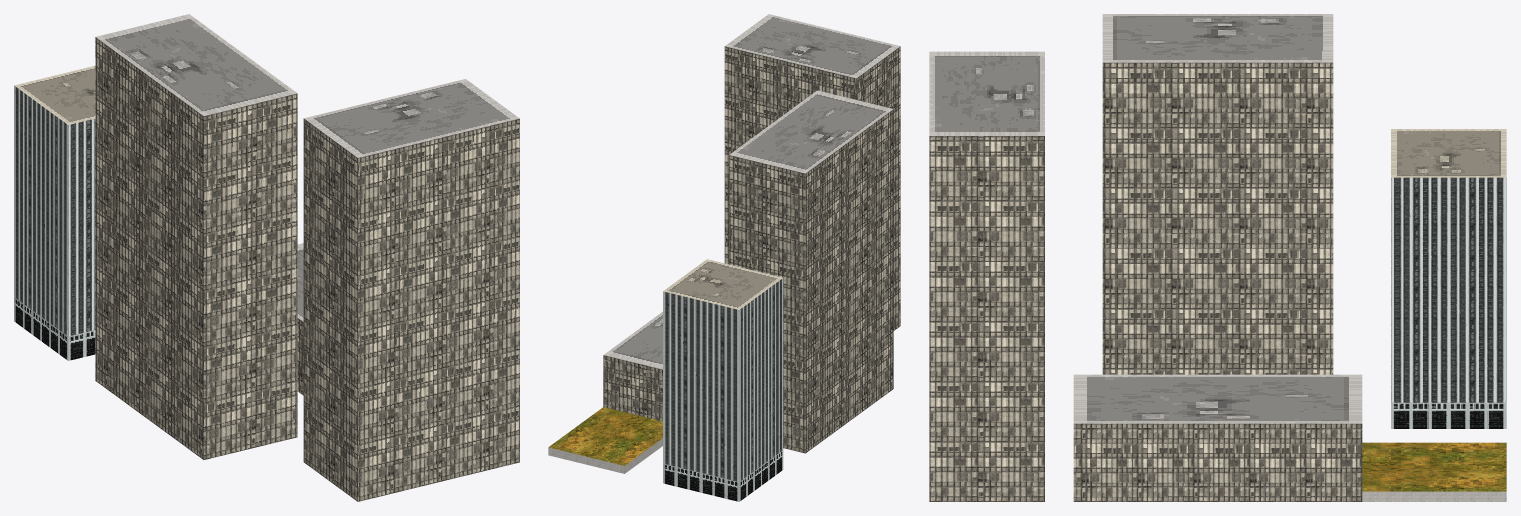
File: uvmd-0111.glb
3 views of the same model, side by side, from view 1: azimuth 30°, elevation 25°; view 2: azimuth 150°, elevation 25°; view 3: azimuth 270°, elevation 25° (orthographic). The views are drawn at different scales.
Visible parts, largest first — view 1: uvmd-0111; view 2: uvmd-0111; view 3: uvmd-0111.
Part boxes in pixels (x1=…): uvmd-0111: x1=14, y1=14, x2=519, y2=501; uvmd-0111: x1=548, y1=14, x2=900, y2=501; uvmd-0111: x1=929, y1=14, x2=1506, y2=501.
Bounding box in the file's own units: 500 × 700 × 1000.
Materials: 6 (6 with a texture image).
